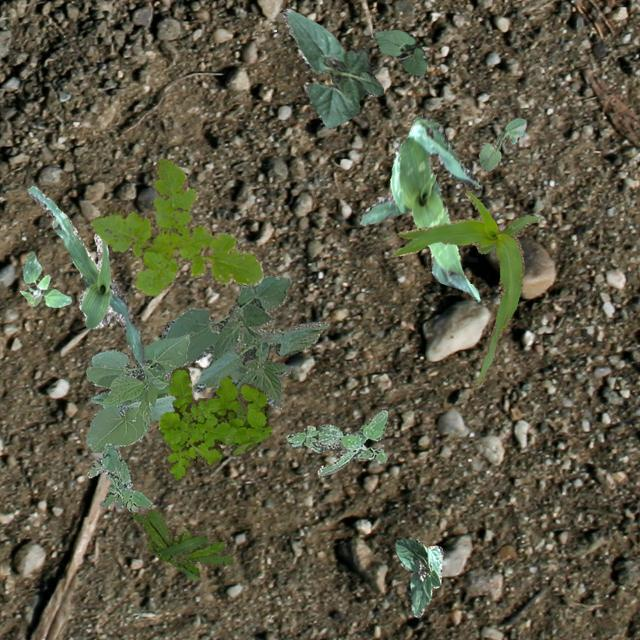crop: (392, 188, 536, 388), (358, 115, 481, 302), (160, 274, 328, 408), (27, 184, 144, 364), (84, 332, 188, 451), (282, 8, 382, 128), (393, 536, 442, 616), (372, 28, 426, 78), (478, 116, 526, 170)
weed: (90, 158, 262, 294), (157, 366, 270, 480), (130, 508, 232, 578), (284, 408, 386, 474), (86, 442, 150, 512), (19, 252, 70, 306)
